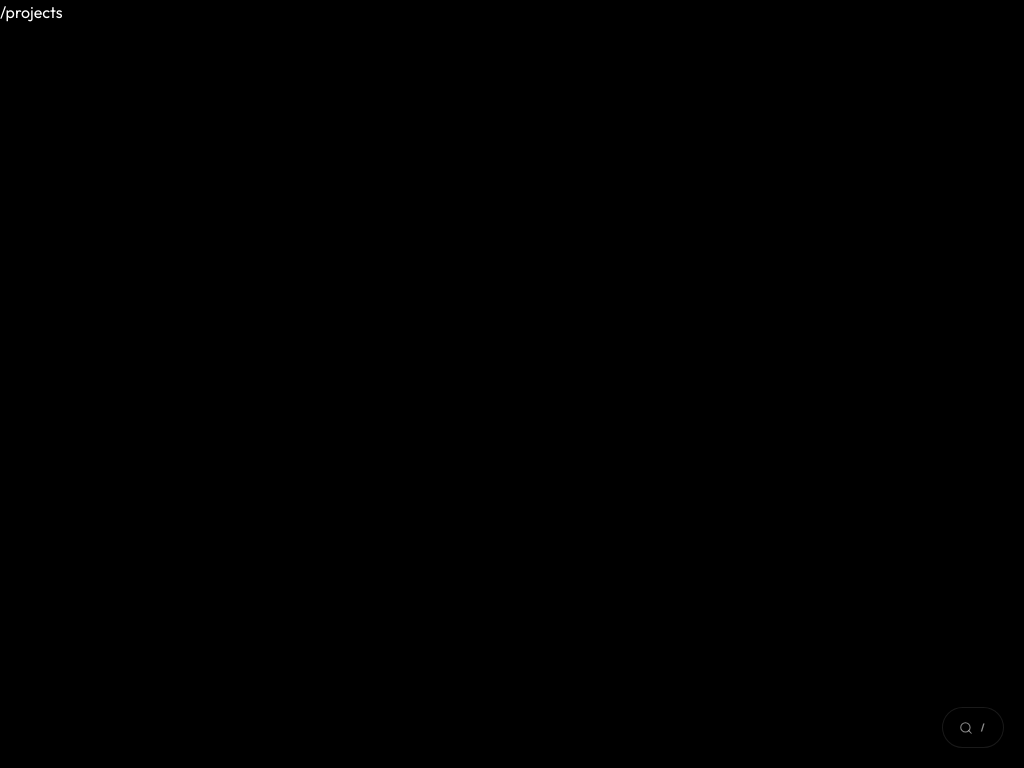
Test: command palette › keeps cookie choices discoverable from every route
Press /
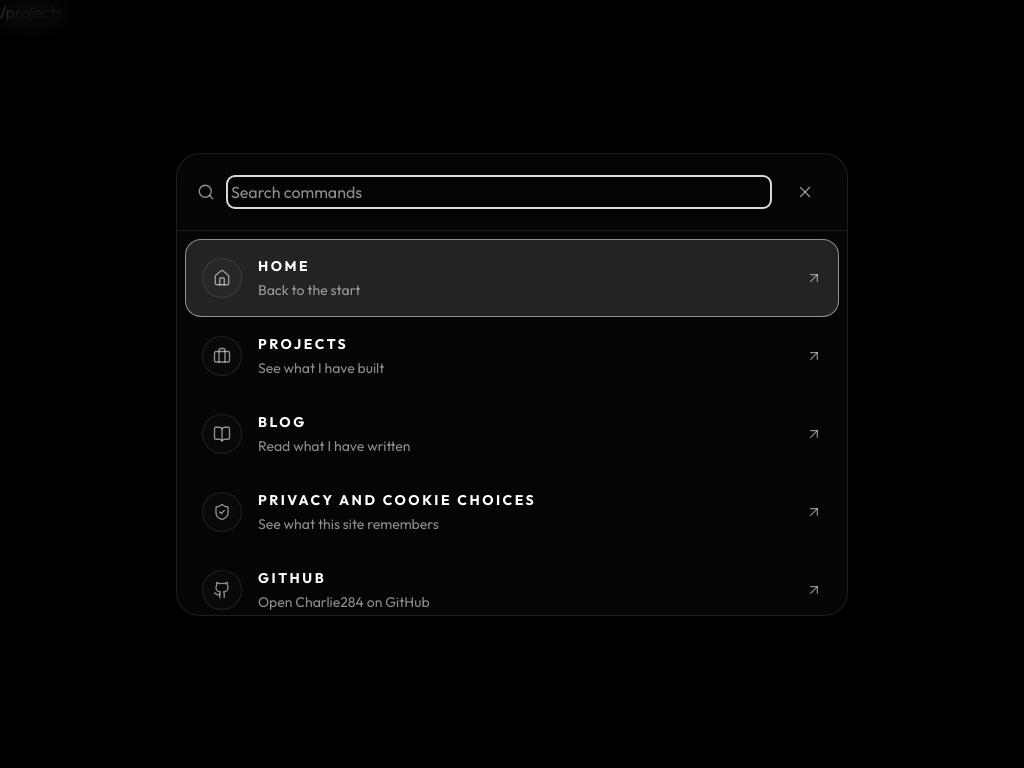
Type "cookies" into the dropdown labelled "Search commands" at (499, 192), box [231,180,767,204]
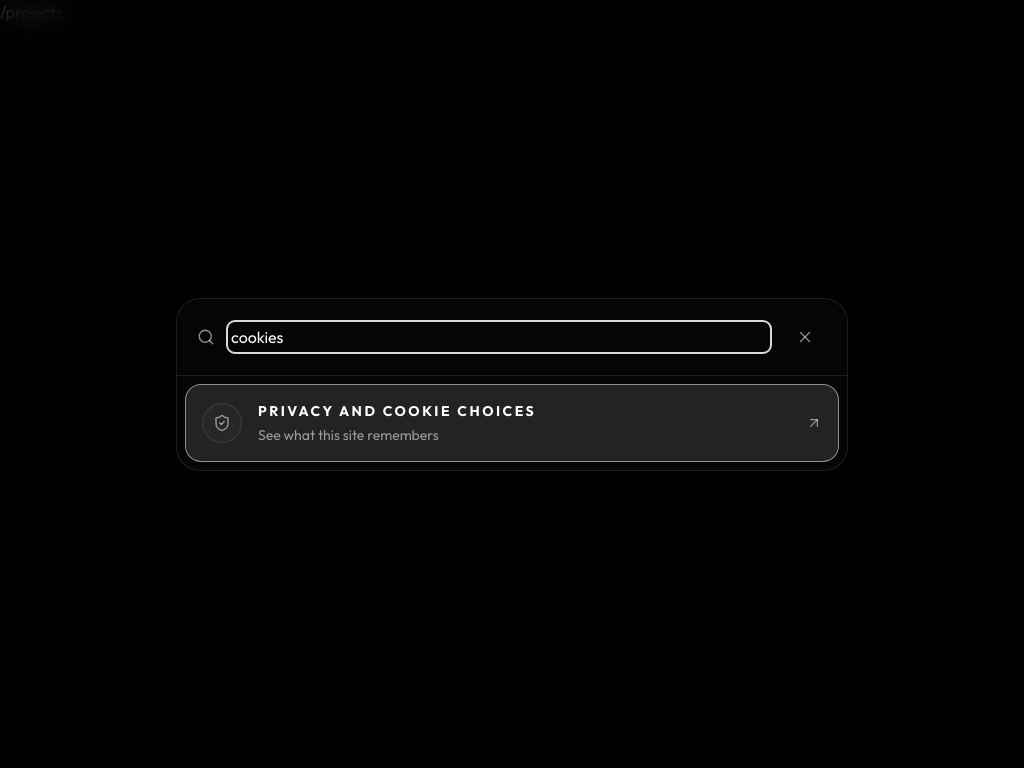
Result: the option "Privacy and cookie choices See what this site remembers" is shown at [185,384,839,462]
Press Enter in the dropdown named "Search commands", box [231,324,767,348]
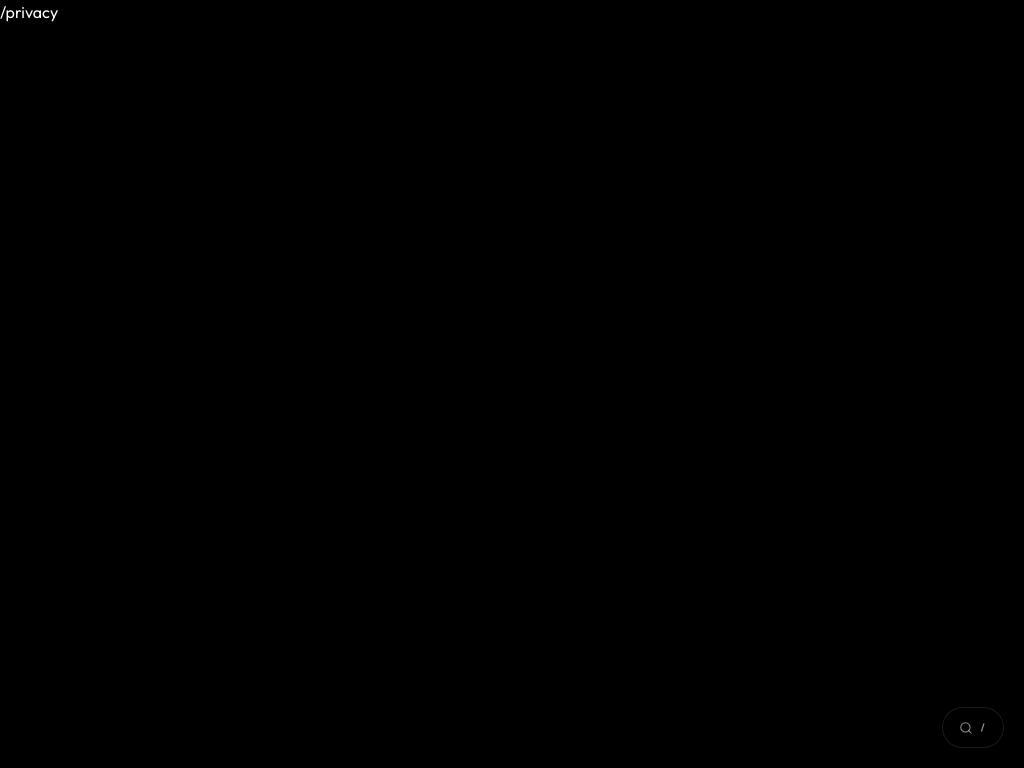
Result: the text named "Current path" reads "/privacy" at [0,2,58,22]
